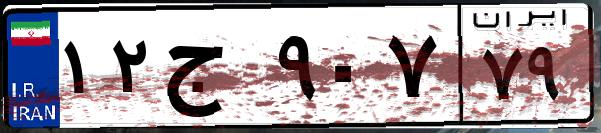0: (330, 28, 385, 110)
1: (57, 26, 110, 100)
2: (110, 28, 158, 98)
7: (385, 28, 445, 110), (475, 38, 525, 113)
9: (270, 28, 330, 110), (525, 38, 570, 115)
ج: (158, 20, 270, 120)
